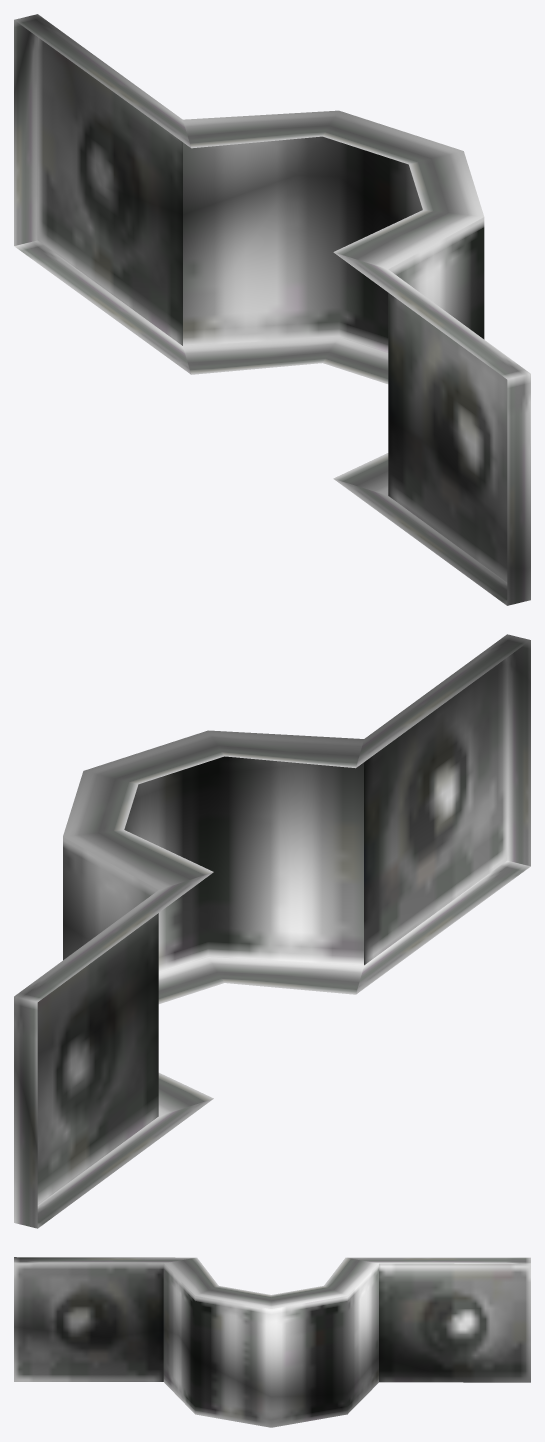
The model's file is INST_SWORDLIGHT_MANACLEB.fbx.
3 renders of one model, top to bottom at view 1: azimuth 30°, elevation 25°; view 2: azimuth 150°, elevation 25°; view 3: azimuth 270°, elevation 25°, orthographic. The views are drawn at different scales.
Parts seen in each view (by area): view 1: INST_SWORDLIGHT_MANACLEB; view 2: INST_SWORDLIGHT_MANACLEB; view 3: INST_SWORDLIGHT_MANACLEB.
Boxes of the visible parts, x1=… form: INST_SWORDLIGHT_MANACLEB: x1=14, y1=14, x2=530, y2=605; INST_SWORDLIGHT_MANACLEB: x1=14, y1=634, x2=530, y2=1228; INST_SWORDLIGHT_MANACLEB: x1=14, y1=1257, x2=530, y2=1427.
Size of the model in its own units: 851 by 916 by 3597.
1 material, 1 textured.
